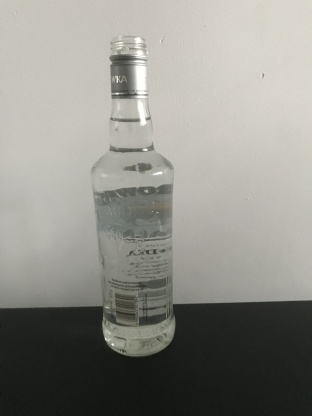nakretka: (108, 35, 149, 99)
